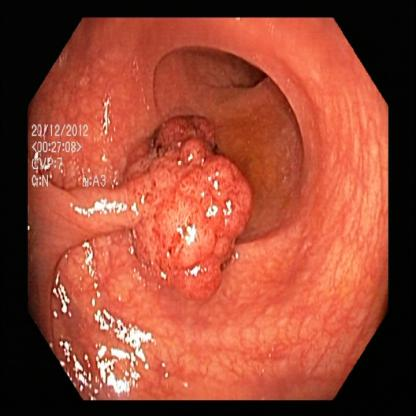Labels: (30, 119, 110, 192)
Polyps: (134, 111, 238, 284)
